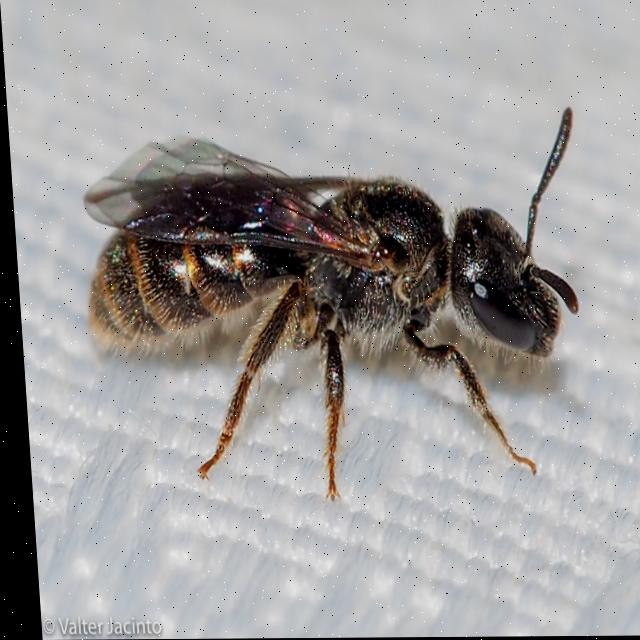Lasioglossum: (57, 98, 624, 502)
